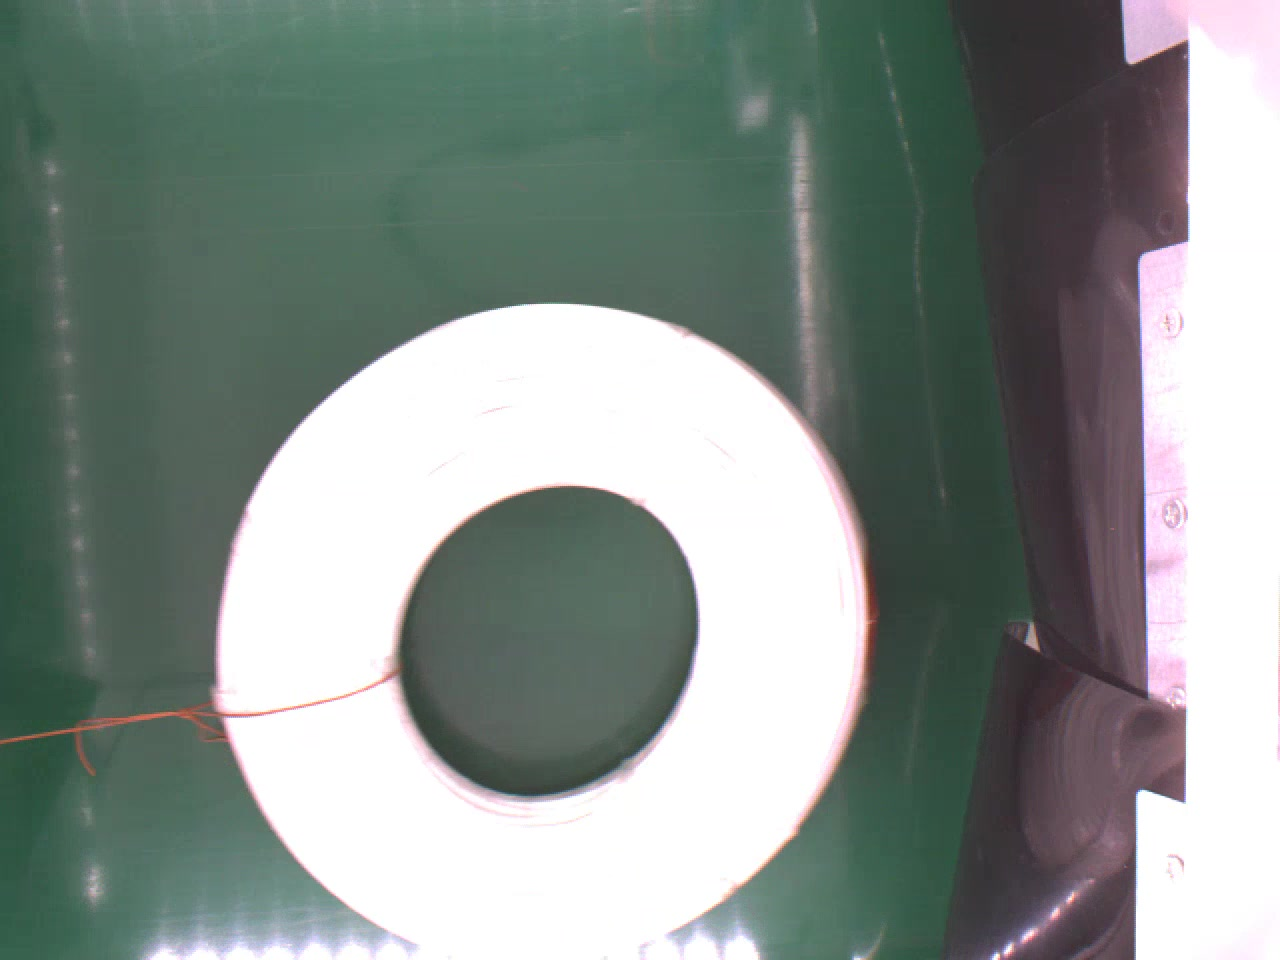white: (213, 296, 875, 960)
